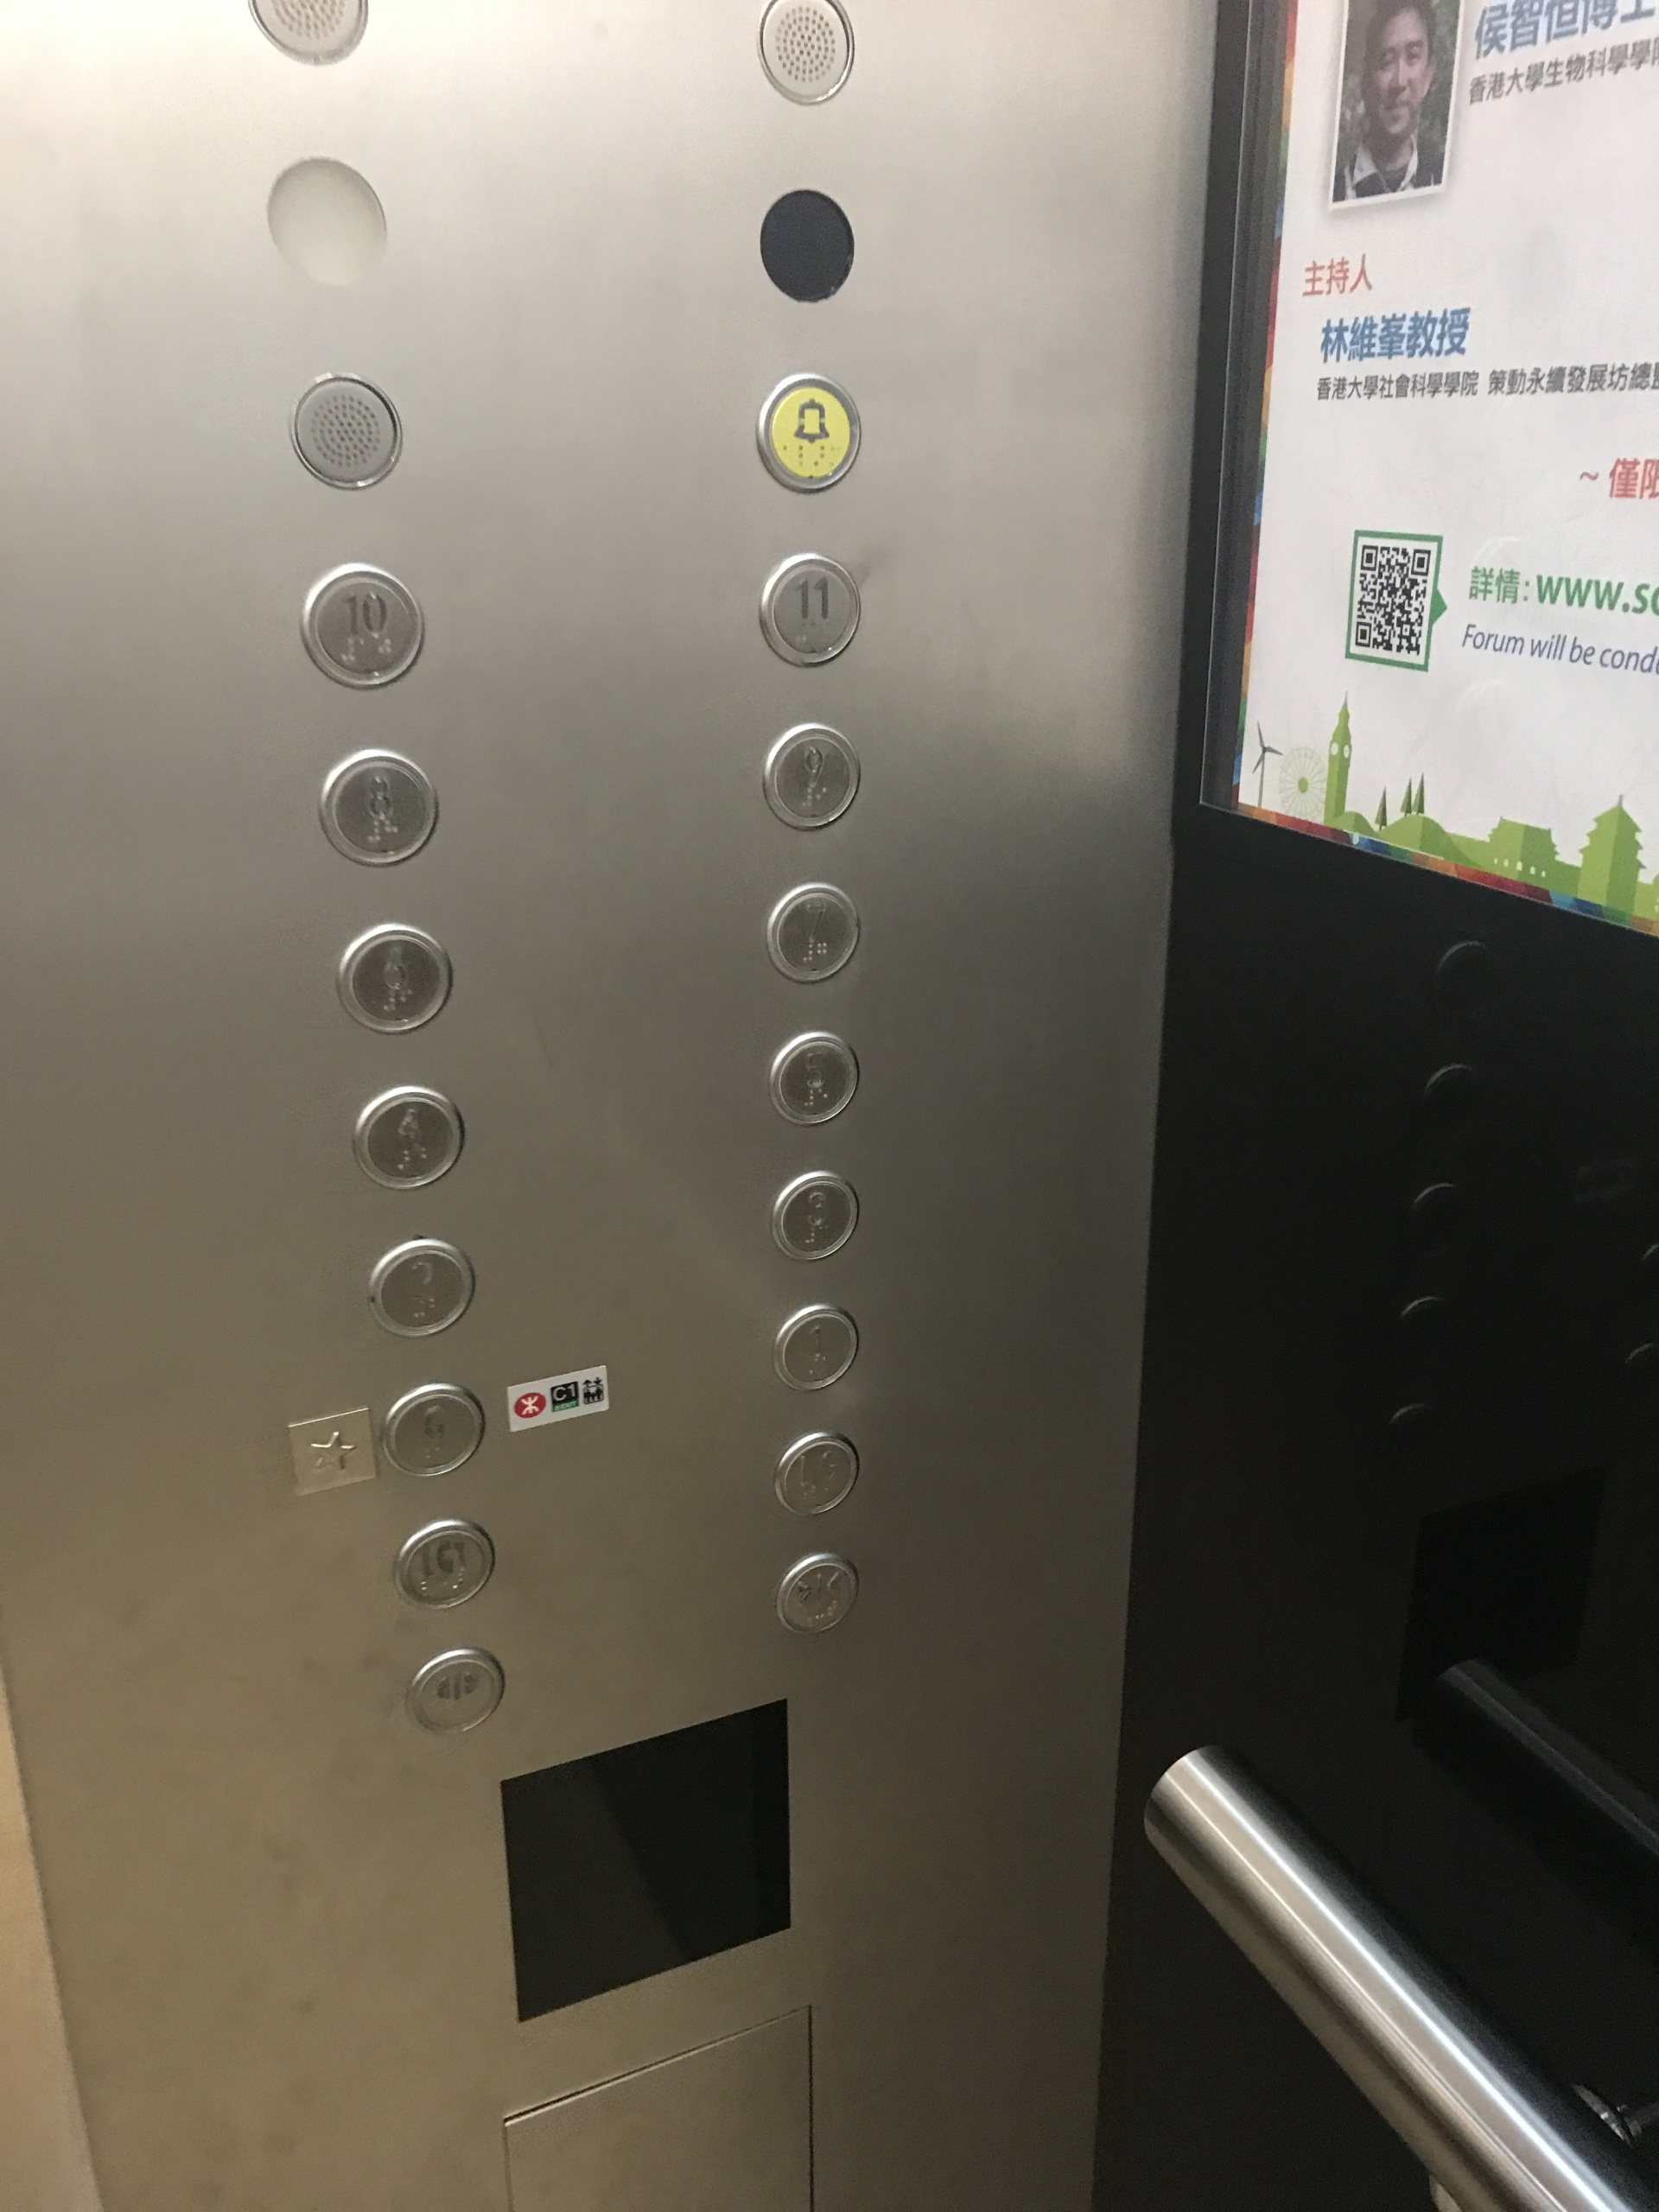1: (770, 1303, 861, 1393)
10: (298, 559, 425, 691)
11: (751, 549, 864, 671)
2: (362, 1237, 477, 1339)
3: (767, 1169, 861, 1263)
4: (349, 1083, 464, 1191)
5: (763, 1033, 861, 1136)
6: (333, 921, 453, 1033)
7: (763, 880, 863, 986)
8: (314, 744, 443, 871)
9: (758, 718, 866, 833)
G: (378, 1379, 488, 1477)
LG: (770, 1430, 861, 1515)
alarm: (749, 368, 863, 498)
blur: (389, 1515, 498, 1613)
close: (772, 1548, 861, 1639)
empty: (260, 153, 396, 293), (751, 183, 861, 308)
led: (490, 1691, 798, 2031)
open: (403, 1646, 507, 1740)
s: (281, 1400, 383, 1500)
speaker: (288, 368, 408, 493), (749, 0, 863, 117)
